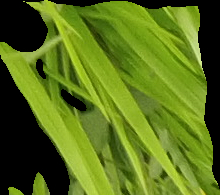grass: (1, 1, 219, 193)
